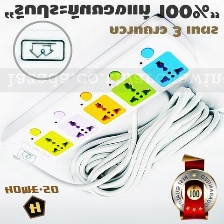three_eye_plug: (0, 10, 203, 167)
